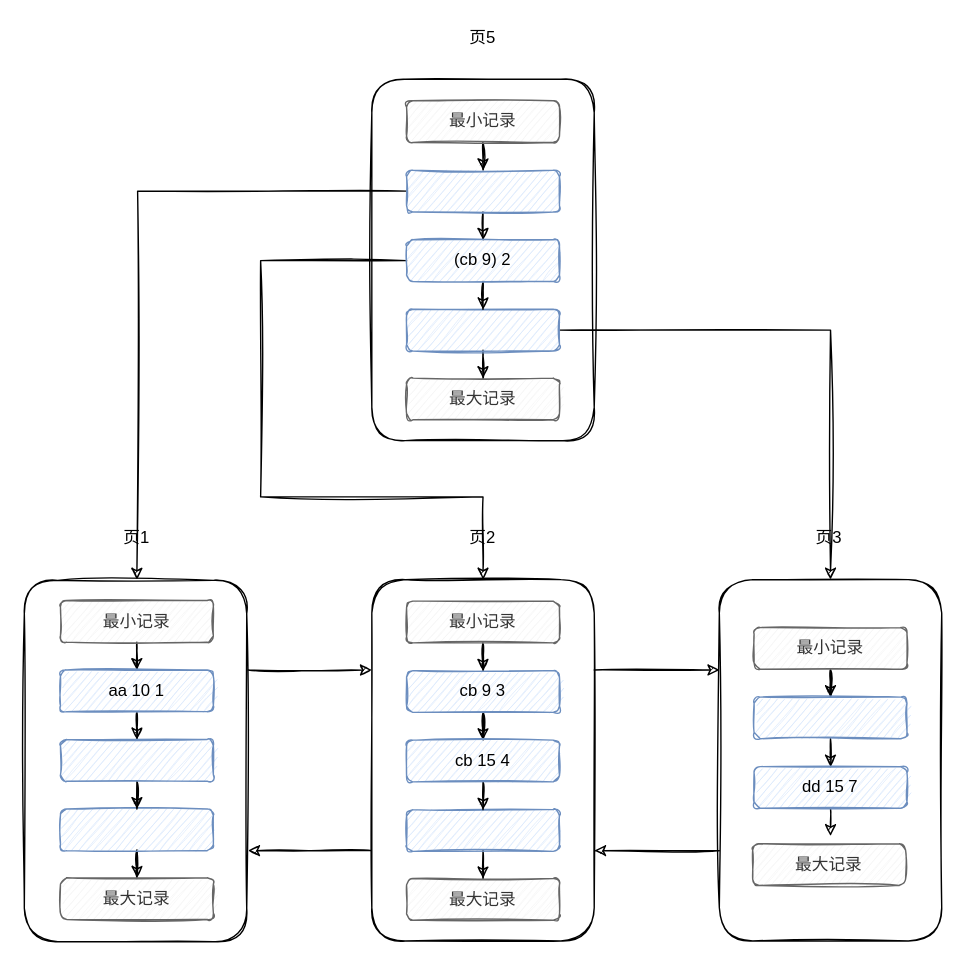
This 966x966 diagram has some shape labels left out. The centre of each missing label's shape, as x and y in pixels:
(aa 10) 1: point (482, 190)
(dd 12) 3: point (482, 329)
bb 15 6: point (136, 759)
bc 17 5: point (136, 829)
dd 12 2: point (482, 829)
dd 12 8: point (830, 717)
